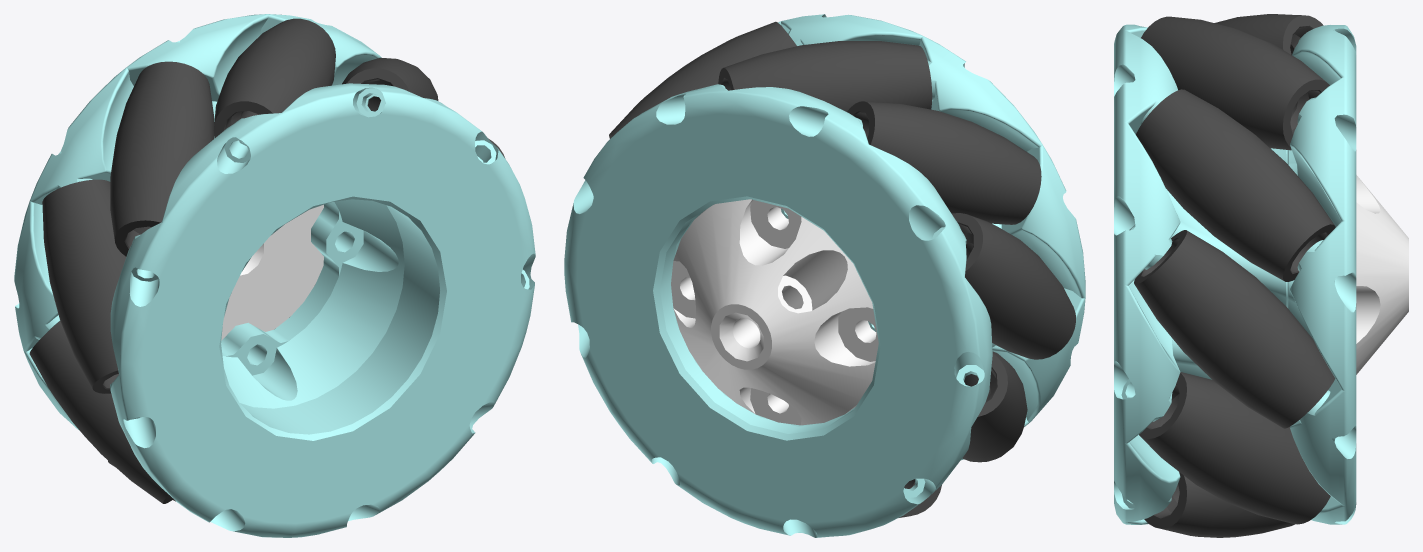
Rendered from asm_3_mecanum_wheel.obj.
3 renders of one model, left to right at view 1: azimuth 30°, elevation 25°; view 2: azimuth 150°, elevation 25°; view 3: azimuth 270°, elevation 25°, orthographic. The views are drawn at different scales.
Bounding box in the file's own units: 99.55 × 99.37 × 56.
